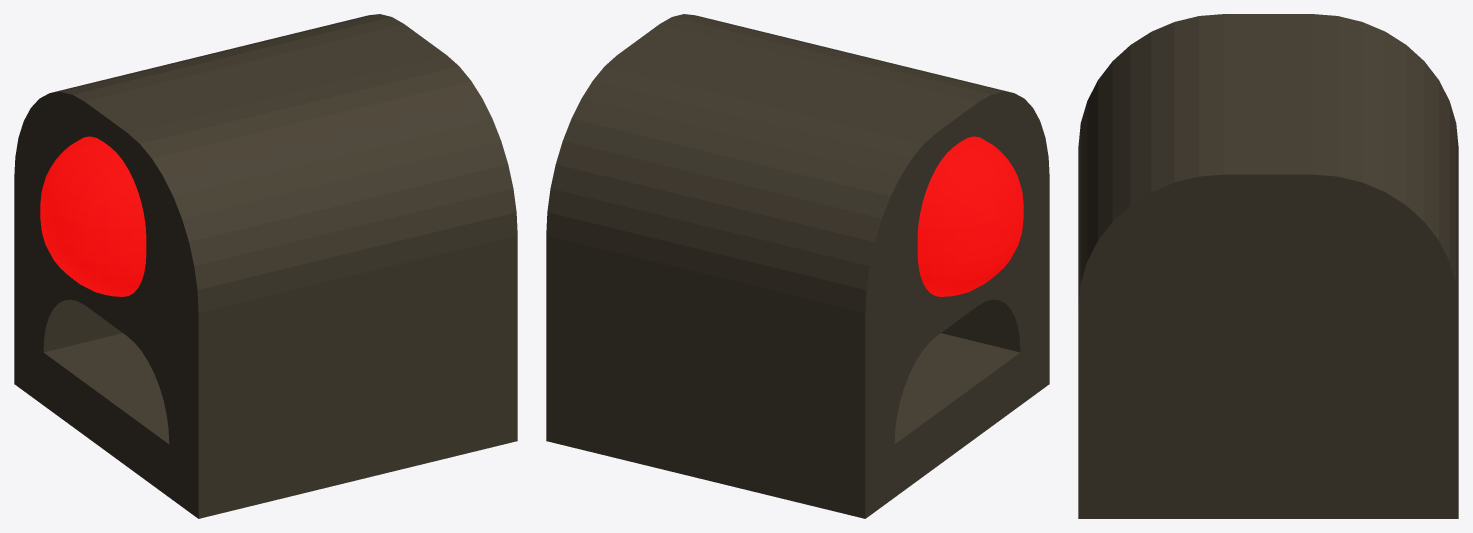
3 views of the same model, side by side, from view 1: azimuth 30°, elevation 25°; view 2: azimuth 150°, elevation 25°; view 3: azimuth 270°, elevation 25° (orthographic). The views are drawn at different scales.
Visible parts, largest first — view 1: CubeLight-col, Cube.003; view 2: CubeLight-col, Cube.003; view 3: CubeLight-col.
Boxes of the visible parts, x1,y1,x2,y2 form: CubeLight-col: (14,14,517,518); Cube.003: (40,136,146,296); CubeLight-col: (546,14,1049,518); Cube.003: (917,136,1023,296); CubeLight-col: (1078,14,1458,518).
Bounding box in the file's own units: 2.33 × 2 × 2.
